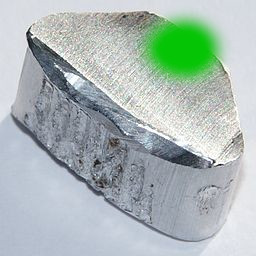focus: (143, 10, 219, 80)
